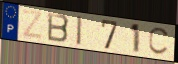1: (130, 23, 142, 55)
7: (100, 18, 118, 50)
B: (47, 11, 71, 44)
C: (148, 27, 172, 57)
I: (76, 15, 84, 47)
Z: (21, 9, 44, 41)
